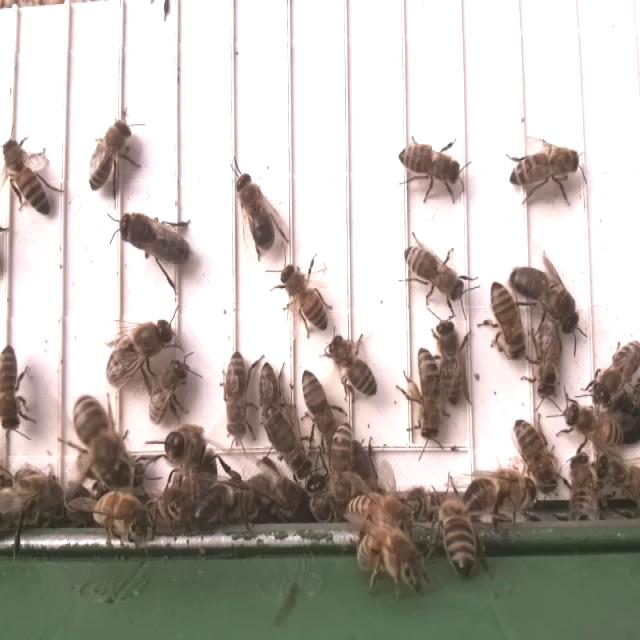Drone: (71, 394, 128, 492), (509, 262, 580, 335), (118, 210, 194, 266), (235, 170, 278, 255)
Worker: (103, 319, 175, 388), (2, 136, 54, 218), (402, 243, 465, 306), (266, 411, 314, 483), (282, 260, 330, 332), (506, 144, 584, 188), (397, 139, 464, 190), (86, 120, 133, 192), (329, 335, 379, 399), (514, 415, 557, 489), (413, 348, 445, 443), (434, 316, 467, 407), (563, 400, 623, 450), (489, 280, 525, 361), (328, 419, 358, 511), (146, 360, 187, 426), (222, 346, 250, 440), (446, 492, 475, 576), (536, 319, 563, 403), (0, 347, 26, 432), (302, 367, 334, 436), (258, 359, 282, 426)
